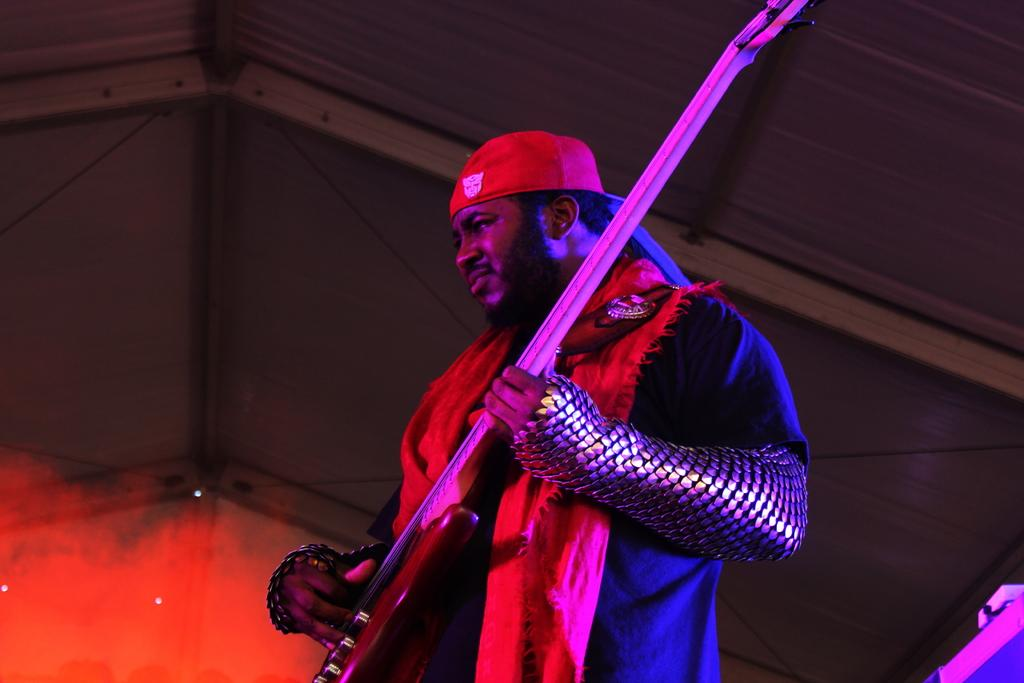Hat: (450, 130, 628, 216)
